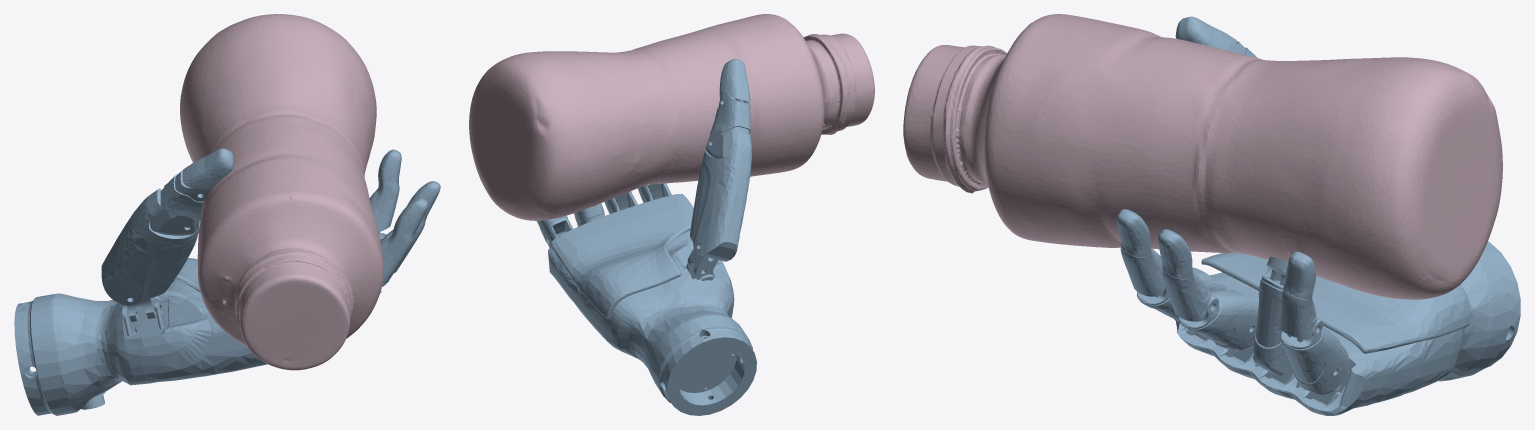
The picture shows the model from 3 angles, left to right: view 1: azimuth 30°, elevation 25°; view 2: azimuth 150°, elevation 25°; view 3: azimuth 270°, elevation 25°; orthographic projection. The views are drawn at different scales.
Parts seen in each view (by area): view 1: obj_mesh_grasp_15.obj, world; view 2: obj_mesh_grasp_15.obj, world; view 3: obj_mesh_grasp_15.obj, world.
Part boxes in pixels (x1=…): obj_mesh_grasp_15.obj: x1=180, y1=14, x2=383, y2=370; world: x1=14, y1=148, x2=440, y2=415; obj_mesh_grasp_15.obj: x1=469, y1=14, x2=874, y2=220; world: x1=537, y1=58, x2=756, y2=415; obj_mesh_grasp_15.obj: x1=903, y1=14, x2=1502, y2=299; world: x1=1116, y1=16, x2=1520, y2=415.
Size of the model in its own units: 0.1791 by 0.1752 by 0.2272.
